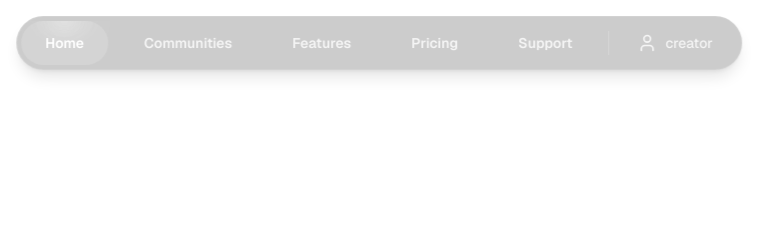
Test case: Navigation Integration Tests › Authenticated User › should toggle user menu when user button is clicked
Expected: the text "creator" is shown, left=666, top=33, right=713, bottom=53
// Click to open menu
Click the button "creator".
click(675, 43)  # box left=622, top=21, right=729, bottom=65
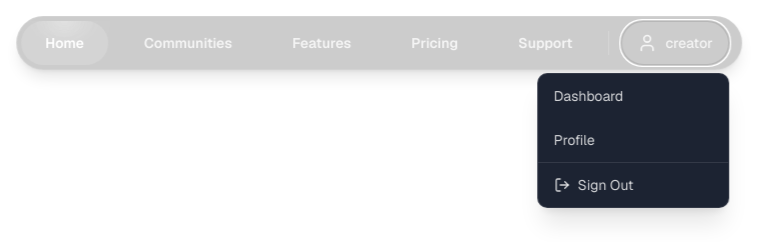
Now the link "Dashboard" is shown, box left=554, top=87, right=624, bottom=105
Now the link "Profile" is shown, box left=554, top=131, right=595, bottom=149
Now the button "Sign Out" is shown, box left=538, top=163, right=728, bottom=207
// Click again to close menu
Click the button "creator".
click(675, 43)  # box left=622, top=21, right=729, bottom=65
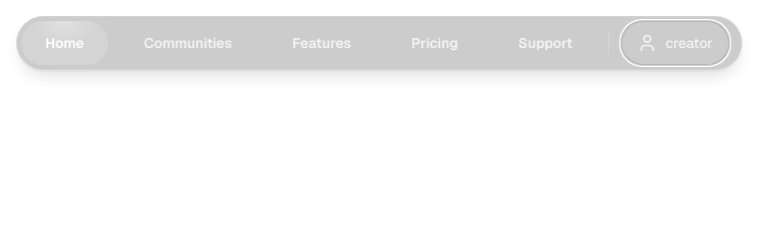
Now the link "Dashboard" is gone
